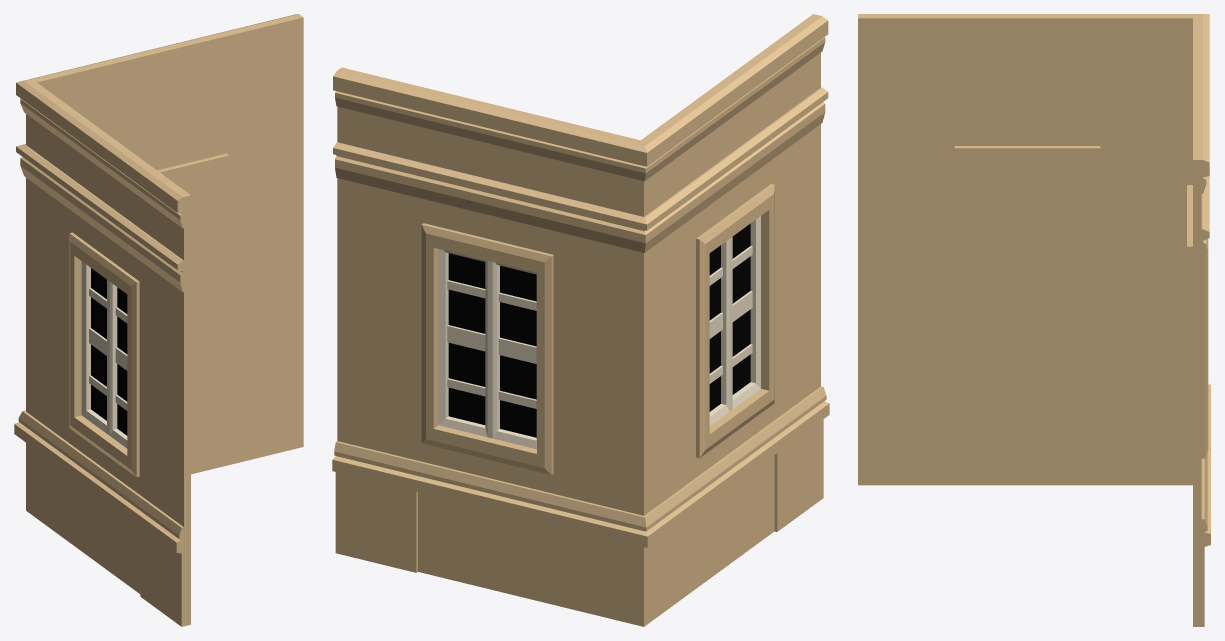
The model's file is Corner_B_OUTER_ROUNDED.fbx.
3 renders of one model, left to right at view 1: azimuth 30°, elevation 25°; view 2: azimuth 150°, elevation 25°; view 3: azimuth 270°, elevation 25°, orthographic. The views are drawn at different scales.
Parts seen in each view (by area): view 1: Corner_B_OUTER_ROUNDED; view 2: Corner_B_OUTER_ROUNDED; view 3: Corner_B_OUTER_ROUNDED.
Boxes of the visible parts, left/top/right/bottom form: Corner_B_OUTER_ROUNDED: left=14, top=14, right=303, bottom=626; Corner_B_OUTER_ROUNDED: left=332, top=14, right=829, bottom=626; Corner_B_OUTER_ROUNDED: left=858, top=14, right=1210, bottom=626.
Size of the model in its own units: 205 by 205 by 300.
